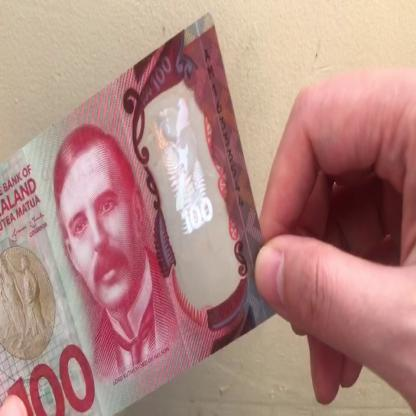100F: (146, 93, 231, 282)
